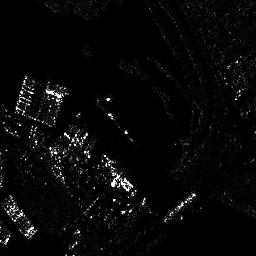ship: (161, 191, 199, 223)
